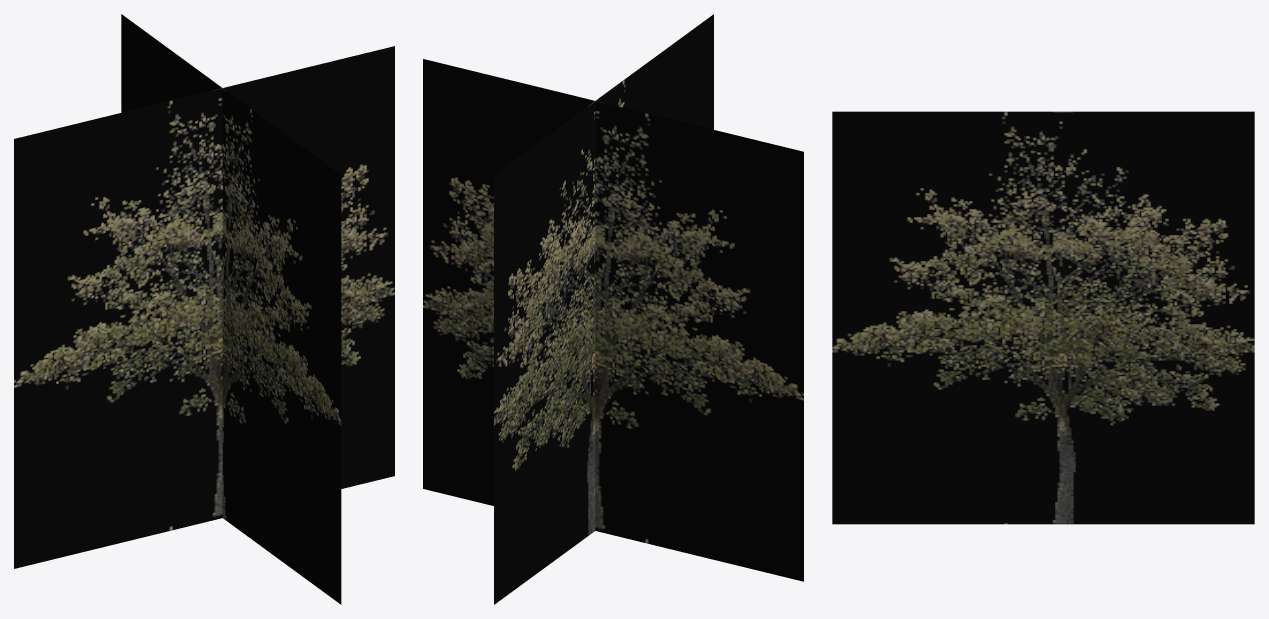
Rendered from Tree2.fbx.
3 renders of one model, left to right at view 1: azimuth 30°, elevation 25°; view 2: azimuth 150°, elevation 25°; view 3: azimuth 270°, elevation 25°, orthographic. The views are drawn at different scales.
Parts seen in each view (by area): view 1: Tree2; view 2: Tree2; view 3: Tree2.
Boxes of the visible parts, box(x1,y1,x2,y2) form: Tree2: box(14, 14, 394, 604); Tree2: box(423, 14, 803, 604); Tree2: box(832, 111, 1254, 524).
Size of the model in its own units: 1814 by 1956 by 1814.
